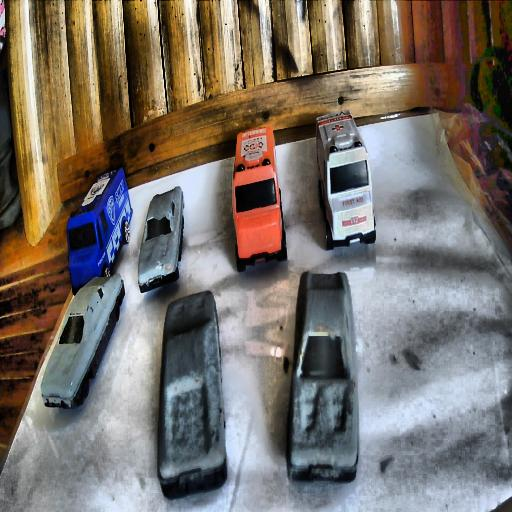ambulance: (315, 109, 377, 251)
fire_truck: (233, 126, 289, 271)
normal_car: (287, 269, 359, 483), (156, 290, 226, 497), (40, 273, 126, 411), (137, 184, 185, 294)
police car: (67, 165, 133, 294)
